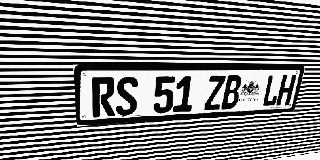1: (173, 76, 195, 112)
5: (153, 76, 176, 114)
B: (221, 75, 243, 109)
H: (276, 75, 297, 106)
L: (261, 75, 283, 107)
R: (91, 77, 115, 117)
S: (116, 77, 138, 116)
Z: (204, 76, 226, 110)
